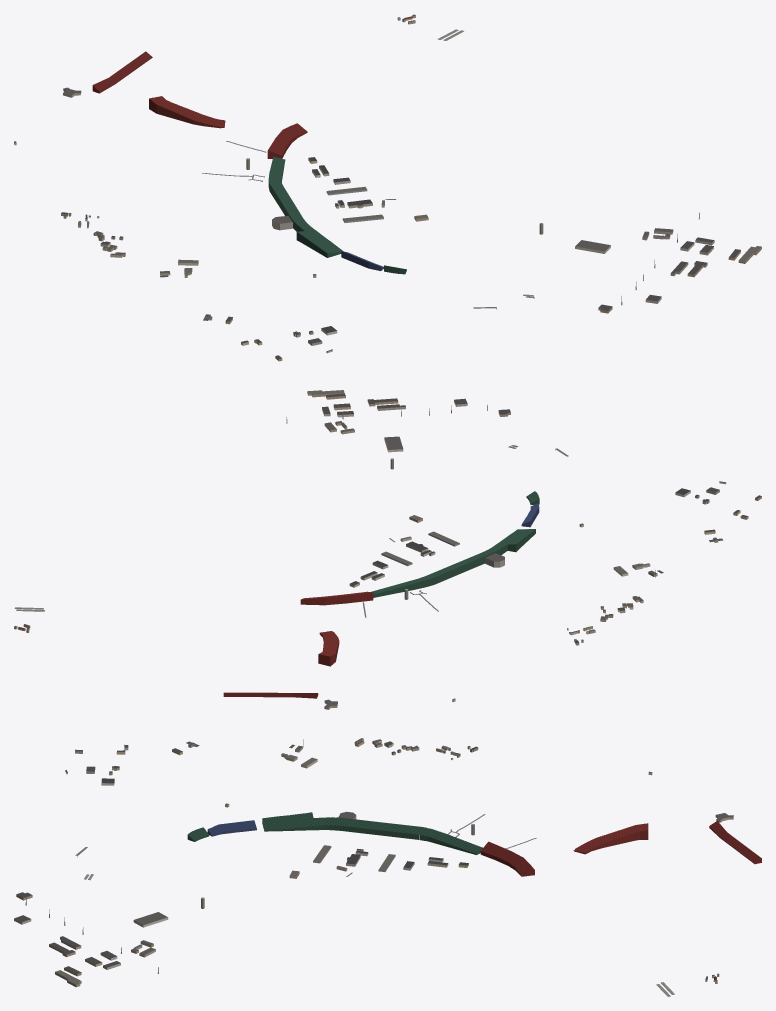
Rendered from scenery.glb.
The picture shows the model from 3 angles, top to bottom: view 1: azimuth 30°, elevation 25°; view 2: azimuth 150°, elevation 25°; view 3: azimuth 270°, elevation 25°; orthographic projection. The views are drawn at different scales.
Parts seen in each view (by area): view 1: chunk_14_15, chunk_15_14, chunk_15_13, chunk_16_16, chunk_15_12, chunk_15_15; view 2: chunk_14_15, chunk_15_14, chunk_16_16, chunk_15_13, chunk_15_15; view 3: chunk_14_15, chunk_15_14, chunk_15_13, chunk_16_16, chunk_14_16, chunk_15_12, chunk_15_15, chunk_16_17.
Part boxes in pixels (x1=…): chunk_14_15: x1=268, y1=156, x2=342, y2=257; chunk_15_14: x1=246, y1=123, x2=367, y2=195; chunk_15_13: x1=149, y1=96, x2=266, y2=152; chunk_16_16: x1=539, y1=223, x2=694, y2=253; chunk_15_12: x1=92, y1=51, x2=152, y2=93; chunk_15_15: x1=335, y1=199, x2=428, y2=222; chunk_14_15: x1=371, y1=529, x2=535, y2=597; chunk_15_14: x1=300, y1=551, x2=412, y2=605; chunk_16_16: x1=324, y1=411, x2=403, y2=469; chunk_15_13: x1=318, y1=602, x2=366, y2=666; chunk_15_15: x1=389, y1=515, x2=459, y2=556; chunk_14_15: x1=262, y1=811, x2=482, y2=854; chunk_15_14: x1=378, y1=824, x2=534, y2=876; chunk_15_13: x1=505, y1=823, x2=648, y2=854; chunk_16_16: x1=100, y1=897, x2=204, y2=960; chunk_14_16: x1=101, y1=771, x2=256, y2=836; chunk_15_12: x1=709, y1=821, x2=761, y2=864; chunk_15_15: x1=289, y1=845, x2=368, y2=878; chunk_16_17: x1=14, y1=897, x2=83, y2=957.
Size of the model in its own units: 1605 by 71.4 by 2090.
